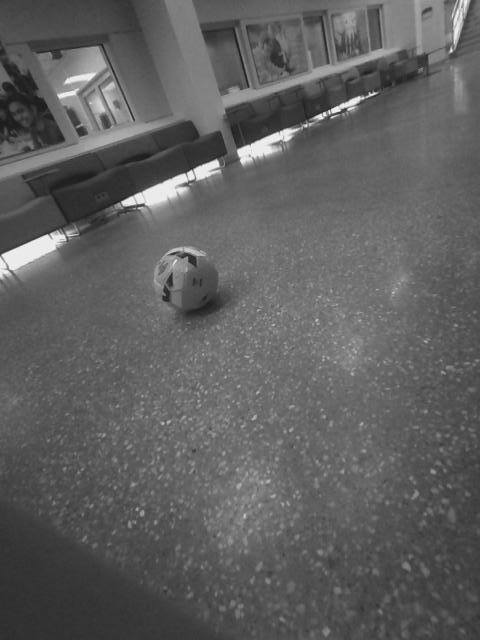ball: (148, 241, 228, 316)
